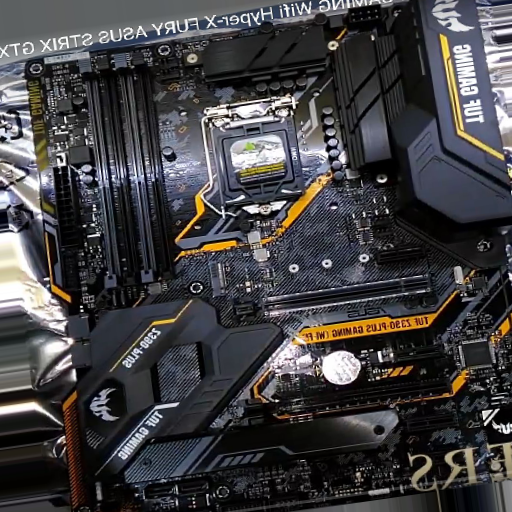CPU: (202, 95, 307, 214)
GPU: (239, 374, 449, 427), (234, 273, 431, 322)
MOTHERBOARD: (35, 1, 512, 507)
RAM: (80, 54, 174, 288)
SSD: (206, 261, 229, 302)
